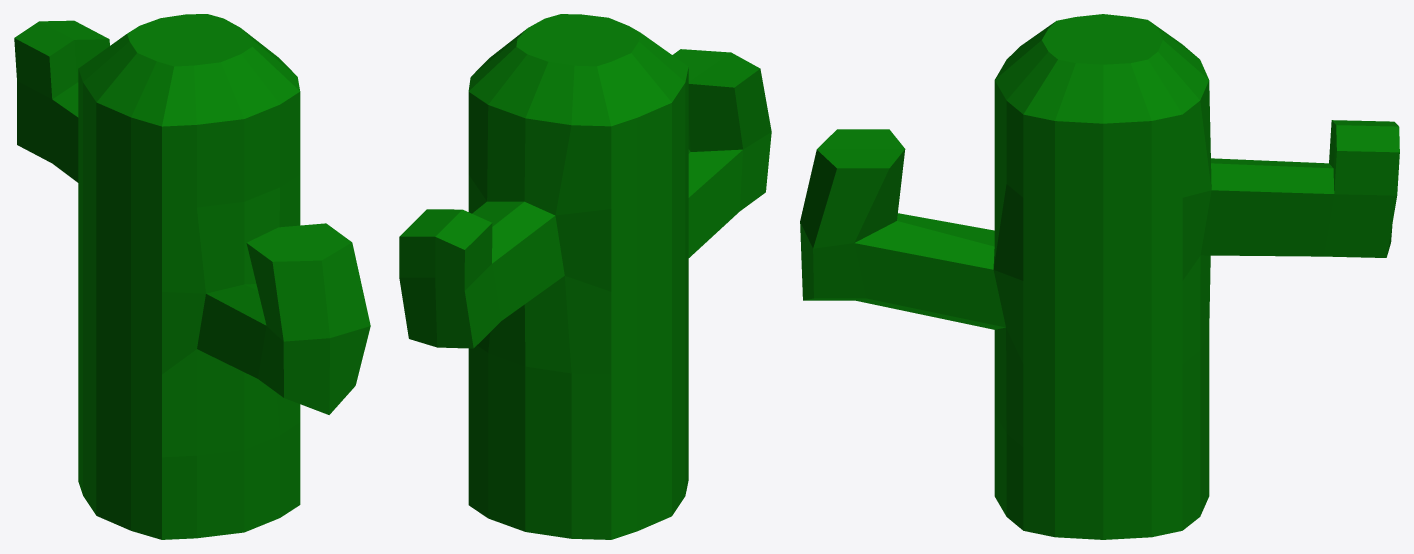
File: Cactus.fbx
3 views of the same model, side by side, from view 1: azimuth 30°, elevation 25°; view 2: azimuth 150°, elevation 25°; view 3: azimuth 270°, elevation 25° (orthographic).
Parts seen in each view (by area): view 1: Cactus; view 2: Cactus; view 3: Cactus.
Boxes of the visible parts, x1,y1,x2,y2 form: Cactus: (14,14,370,539); Cactus: (399,14,771,539); Cactus: (800,14,1399,539).
Bounding box in the file's own units: 59.41 × 141 × 168.
